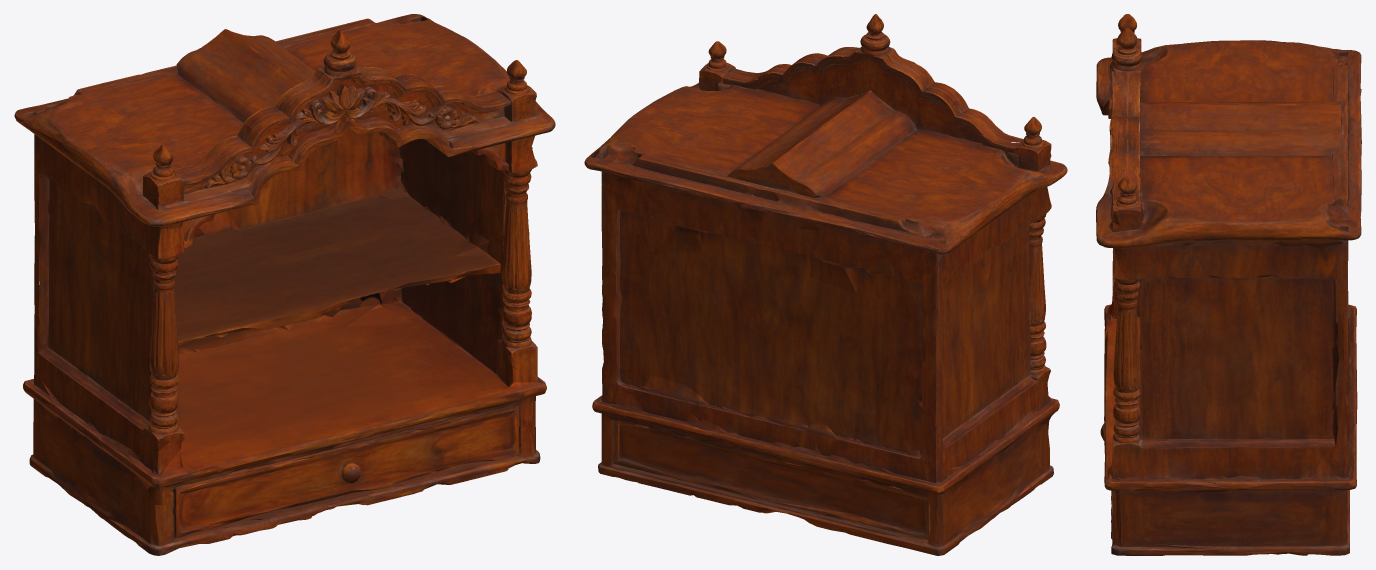
The model's file is w4prayershelf.glb.
3 renders of one model, left to right at view 1: azimuth 30°, elevation 25°; view 2: azimuth 150°, elevation 25°; view 3: azimuth 270°, elevation 25°, orthographic. The views are drawn at different scales.
Visible parts, largest first — view 1: output_unwrapped; view 2: output_unwrapped; view 3: output_unwrapped.
Boxes of the visible parts, left/top/right/bottom form: output_unwrapped: left=14, top=14, right=555, bottom=555; output_unwrapped: left=584, top=14, right=1067, bottom=555; output_unwrapped: left=1096, top=14, right=1361, bottom=555.
Size of the model in its own units: 0.75 by 0.8252 by 0.4517.
Materials: 1 (1 with a texture image).
